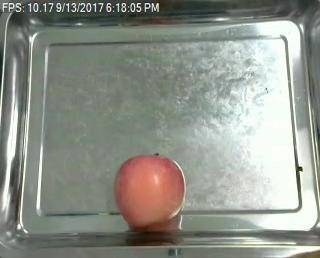apple: (111, 152, 188, 231)
